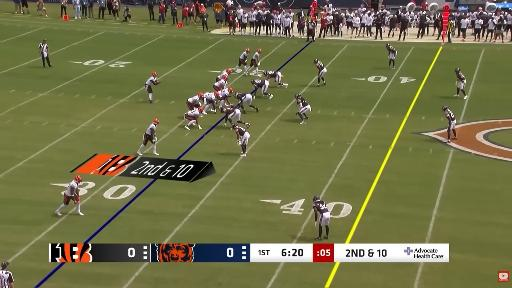Helmet: (74, 175, 82, 183), (214, 91, 220, 98), (232, 123, 238, 129), (226, 68, 232, 74), (152, 71, 158, 77), (442, 106, 449, 111), (313, 196, 320, 201), (153, 119, 159, 124), (228, 87, 233, 93), (235, 93, 242, 97), (198, 93, 203, 98), (223, 75, 228, 80), (455, 68, 460, 73), (295, 94, 301, 98), (263, 71, 268, 75), (386, 43, 390, 48), (199, 107, 203, 112), (220, 107, 224, 112), (246, 48, 250, 52), (314, 59, 318, 63), (251, 80, 255, 84), (257, 48, 261, 52)
Jersey: (65, 180, 78, 196), (315, 200, 329, 213), (445, 109, 455, 122), (186, 109, 200, 118), (219, 89, 230, 100), (146, 123, 156, 135), (188, 95, 200, 105), (236, 93, 251, 101), (215, 79, 227, 89), (298, 97, 309, 107), (204, 93, 216, 102), (228, 109, 240, 118), (146, 76, 157, 85), (217, 70, 228, 79), (238, 51, 249, 60), (237, 127, 246, 137), (254, 80, 265, 88), (457, 72, 466, 81), (267, 71, 278, 78), (316, 61, 324, 70), (274, 15, 281, 25), (388, 46, 396, 54), (252, 52, 259, 61), (242, 14, 248, 23)
Player: (56, 175, 83, 215), (138, 119, 159, 155), (313, 196, 330, 240), (232, 124, 250, 156), (224, 108, 250, 128), (443, 106, 457, 143), (295, 94, 311, 124), (145, 72, 160, 103), (235, 93, 258, 113), (184, 107, 203, 129), (235, 48, 250, 75), (454, 68, 467, 99), (251, 80, 273, 98), (264, 71, 288, 87), (218, 88, 233, 112), (314, 59, 327, 86), (204, 92, 219, 113), (250, 48, 261, 76), (386, 44, 397, 69), (187, 93, 203, 110), (214, 75, 228, 91), (216, 69, 231, 82)
